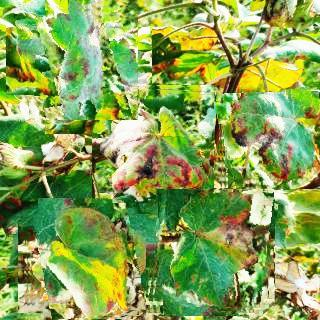blight: (147, 189, 274, 315), (92, 84, 215, 203), (24, 203, 146, 320), (20, 2, 138, 120), (218, 89, 320, 194)
